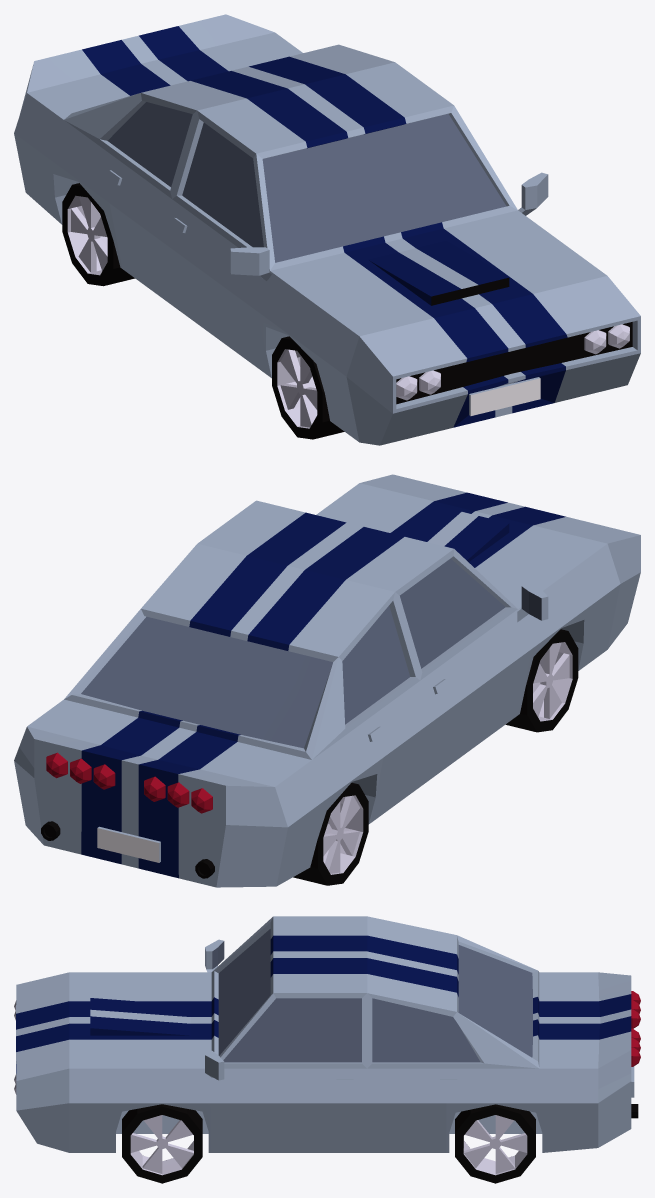
The model's file is mod-muscle-classico.gltf.
The picture shows the model from 3 angles, top to bottom: view 1: azimuth 30°, elevation 25°; view 2: azimuth 150°, elevation 25°; view 3: azimuth 270°, elevation 25°; orthographic projection. The views are drawn at different scales.
Parts seen in each view (by area): view 1: Muscle 2, Muscle 2 wheel front left; view 2: Muscle 2, Muscle 2 wheel front left; view 3: Muscle 2, Muscle 2 wheel front left.
Part boxes in pixels (x1,y1,x2,y2): Muscle 2: (14,14,640,445); Muscle 2 wheel front left: (67,195,317,428); Muscle 2: (14,474,640,887); Muscle 2 wheel front left: (323,642,572,874); Muscle 2: (14,916,640,1183); Muscle 2 wheel front left: (130,1115,527,1175).
Size of the model in its own units: 2.48 by 1.68 by 5.33.
